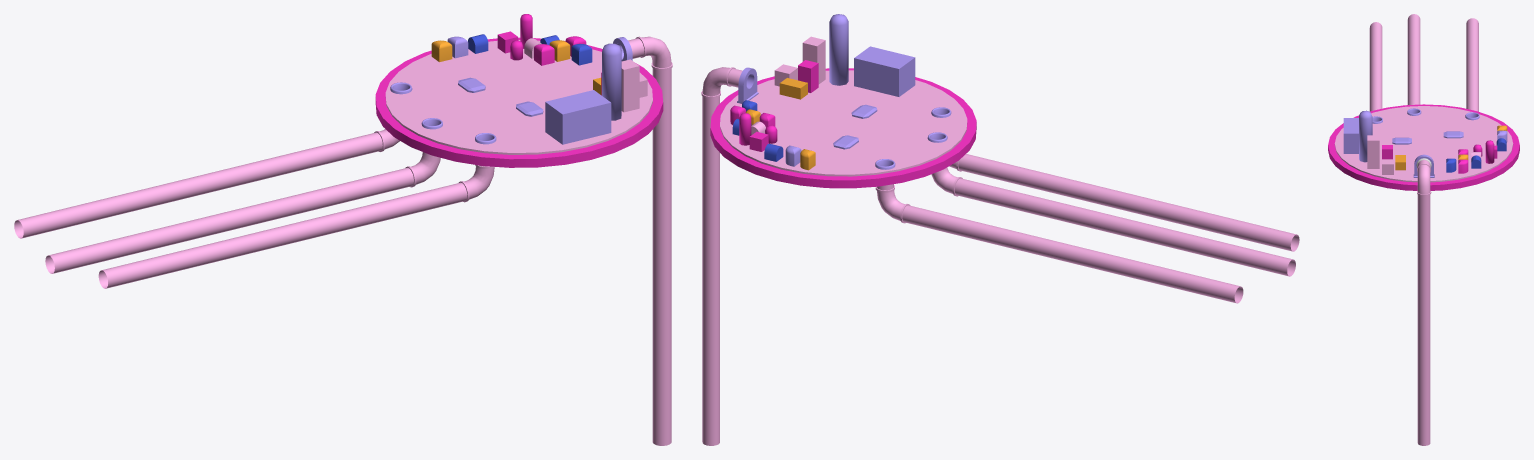
Rendered from platform_level2_a03.glb.
3 views of the same model, side by side, from view 1: azimuth 30°, elevation 25°; view 2: azimuth 150°, elevation 25°; view 3: azimuth 270°, elevation 25° (orthographic). The views are drawn at different scales.
Visible parts, largest first — view 1: Cylinder.104, Cube.300, Cube.294, Cube.297, Cube.299, Cylinder.105, Cube.308, Cylinder.111, Cube.304; view 2: Cylinder.104, Cube.299, Cube.297, Cube.294, Cube.300, Cylinder.105, Cube.308, Cylinder.111, Cube.304, Cube.295; view 3: Cylinder.104, Cube.294, Cylinder.105, Cube.297, Cube.300, Cube.299, Cube.308, Cylinder.111, Cube.304, Cylinder.112.
Part boxes in pixels (x1=…): Cylinder.104: x1=385, y1=40, x2=652, y2=154; Cube.300: x1=98, y1=165, x2=494, y2=288; Cube.294: x1=628, y1=36, x2=672, y2=445; Cube.297: x1=45, y1=152, x2=440, y2=273; Cube.299: x1=14, y1=129, x2=399, y2=238; Cylinder.105: x1=375, y1=37, x2=663, y2=167; Cube.308: x1=545, y1=90, x2=611, y2=144; Cylinder.111: x1=602, y1=43, x2=621, y2=120; Cube.304: x1=621, y1=59, x2=639, y2=112; Cylinder.104: x1=720, y1=70, x2=967, y2=176; Cube.299: x1=875, y1=184, x2=1243, y2=303; Cube.297: x1=931, y1=167, x2=1295, y2=276; Cube.294: x1=701, y1=67, x2=742, y2=445; Cube.300: x1=949, y1=153, x2=1299, y2=251; Cylinder.105: x1=710, y1=68, x2=976, y2=188; Cube.308: x1=854, y1=46, x2=915, y2=96; Cylinder.111: x1=829, y1=14, x2=848, y2=85; Cube.304: x1=802, y1=36, x2=825, y2=84; Cube.295: x1=737, y1=67, x2=758, y2=103; Cylinder.104: x1=1334, y1=106, x2=1513, y2=182; Cube.294: x1=1417, y1=160, x2=1431, y2=445; Cylinder.105: x1=1328, y1=104, x2=1519, y2=190; Cube.297: x1=1407, y1=14, x2=1420, y2=104; Cube.300: x1=1369, y1=22, x2=1382, y2=111; Cube.299: x1=1466, y1=18, x2=1478, y2=111; Cube.308: x1=1343, y1=118, x2=1358, y2=153; Cylinder.111: x1=1359, y1=110, x2=1372, y2=162; Cube.304: x1=1367, y1=135, x2=1379, y2=168; Cylinder.112: x1=1485, y1=140, x2=1494, y2=163.
Size of the model in its own units: 99.23 by 68.2 by 39.38.
